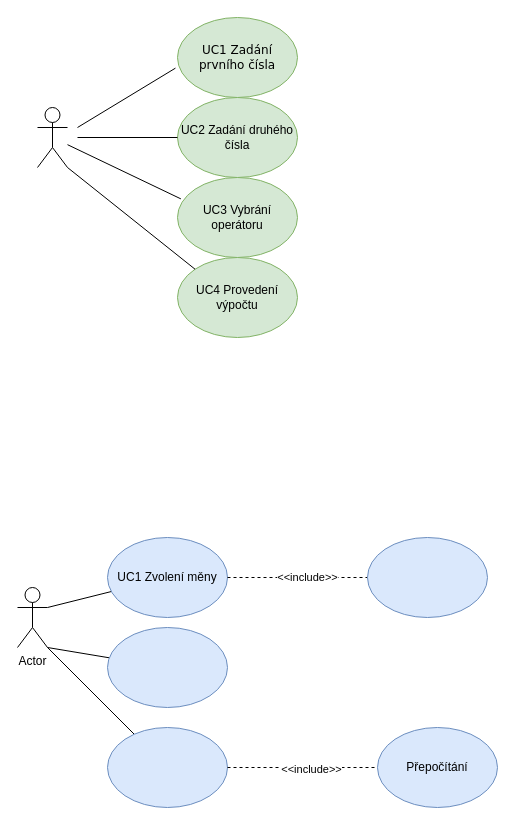
Image size: 515x825. Some labels were removed from this diagram. Here are the shapes that lost their labels. From the top down, the box of each, then its label:
(36, 106, 68, 168): uživatel
(366, 536, 488, 618): Stáhnutí kurzovního lístku
(106, 626, 228, 708): UC2 Stažení kurzovního lístku
(106, 726, 228, 808): UC3 Zadání hodnoty
